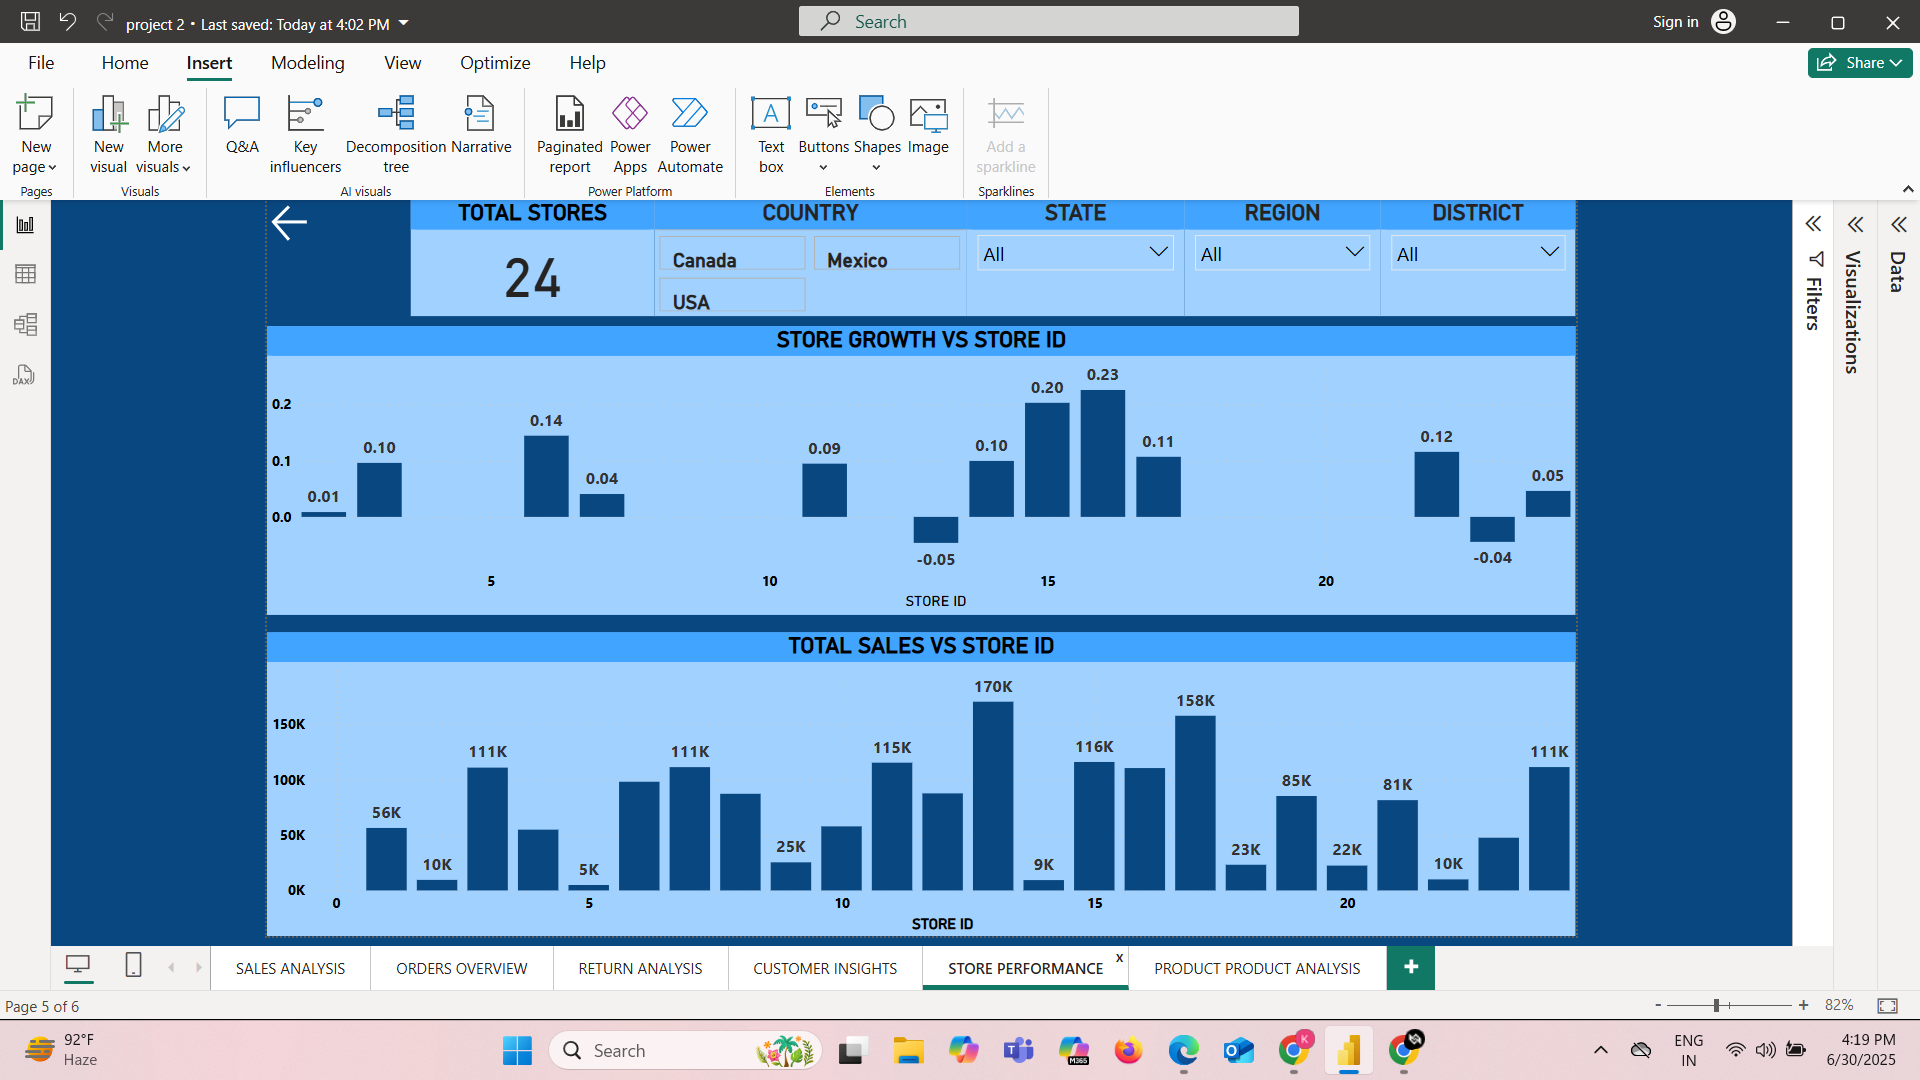

The dashboard page shown, as its layout file describes it:
{"tool":"powerbi","page":{"name":"STORE PERFORMANCE","canvas":[1280,720],"ordinal":4},"visuals":[{"type":"columnChart","title":"TOTAL SALES VS STORE ID","fields":{"Category":["stores.store_id"],"Y":["transactions.TOTAL SALES"]},"box":[0,422.6,1280.3,298.3],"z":0},{"type":"columnChart","title":"STORE GROWTH VS STORE ID","fields":{"Y":["stores.Store Growth YoY"],"Category":["stores.store_id"]},"box":[0,123.5,1280.3,282.5],"z":1000},{"type":"advancedSlicerVisual","title":"COUNTRY","fields":{"Values":["stores.store_country"]},"box":[379.1,0,305.7,113.7],"z":2000},{"type":"slicer","title":"STATE","fields":{"Values":["stores.store_state"]},"box":[684.8,0,212.8,113.7],"z":3000},{"type":"slicer","title":"REGION","fields":{"Values":["regions.sales_region"]},"box":[897.6,0,192,113.7],"z":4000},{"type":"slicer","title":"DISTRICT","fields":{"Values":["regions.sales_district"]},"box":[1089.5,0,190.8,113.7],"z":5000},{"type":"card","title":"TOTAL STORES","fields":{"Values":["stores.Total Stores"]},"box":[140.6,0,238.5,113.7],"z":6000},{"type":"actionButton","box":[0,0,88,45.2],"z":6001}]}

Visuals, with their boxes on the page's 1280x720 design canvas (x1, y1, x2, y2). These are canvas units, not pixel positions in the 1920x1080 screenshot, which may show the page scaled, cropped or inside an application window:
"TOTAL SALES VS STORE ID" columnChart: detection(0, 423, 1280, 721)
"STORE GROWTH VS STORE ID" columnChart: detection(0, 124, 1280, 406)
"COUNTRY" advancedSlicerVisual: detection(379, 0, 685, 114)
"STATE" slicer: detection(685, 0, 898, 114)
"REGION" slicer: detection(898, 0, 1090, 114)
"DISTRICT" slicer: detection(1090, 0, 1280, 114)
"TOTAL STORES" card: detection(141, 0, 379, 114)
actionButton: detection(0, 0, 88, 45)
